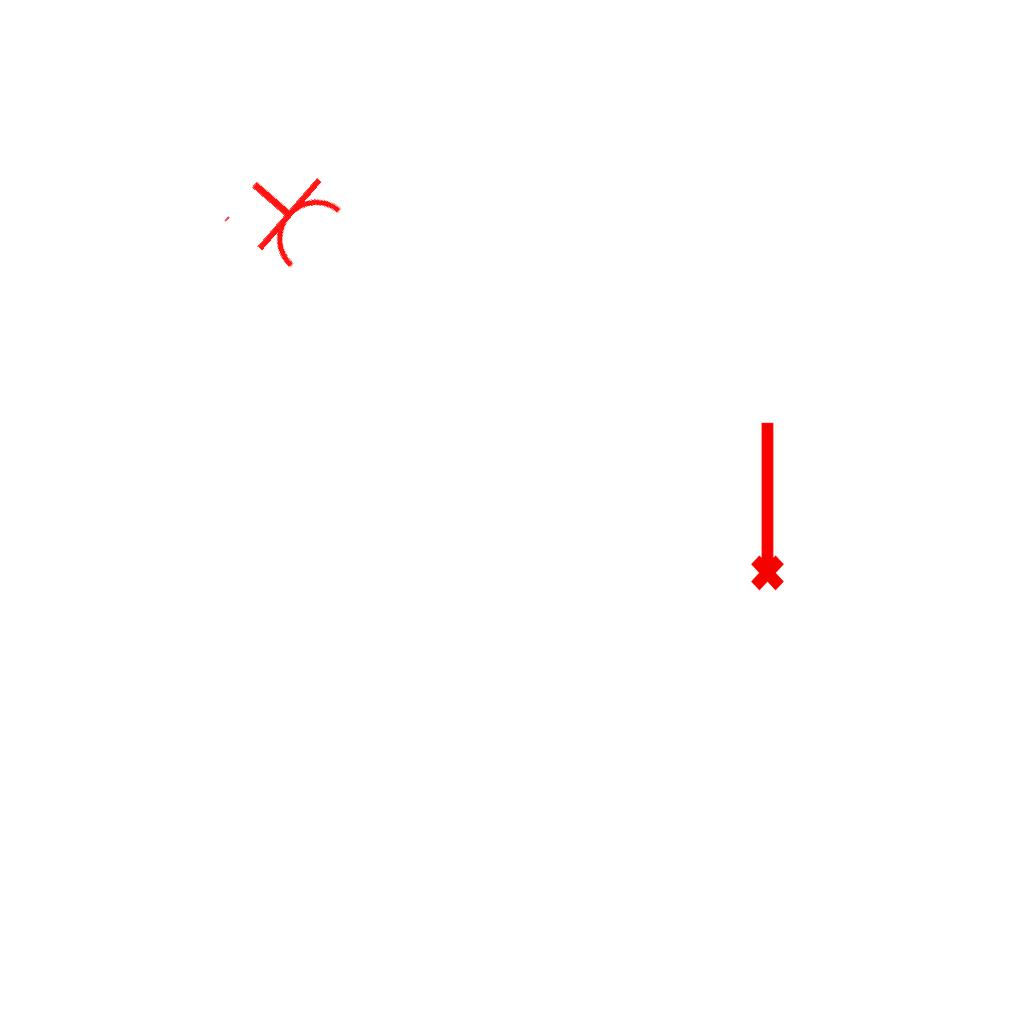ASR_Ansaugoeffnung: (742, 417, 788, 593)
Schukosteckdose_einfach: (218, 146, 351, 280)
